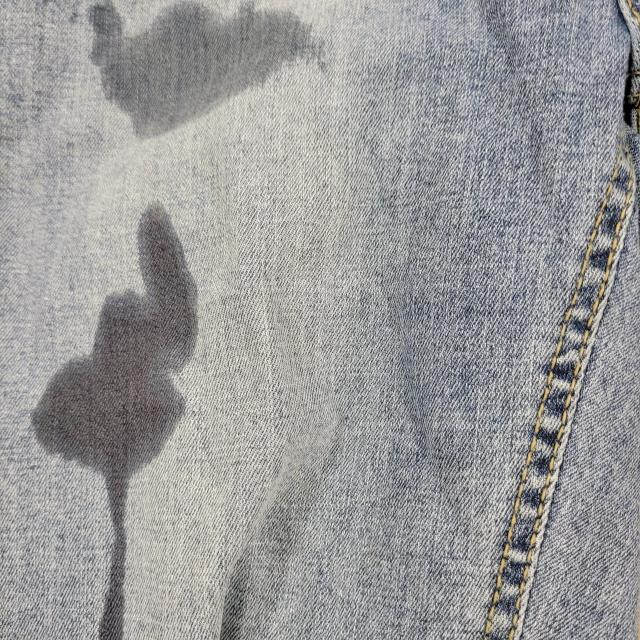Stain: (28, 198, 205, 640), (82, 0, 333, 146), (220, 460, 339, 640)
seam: (479, 0, 640, 639)
